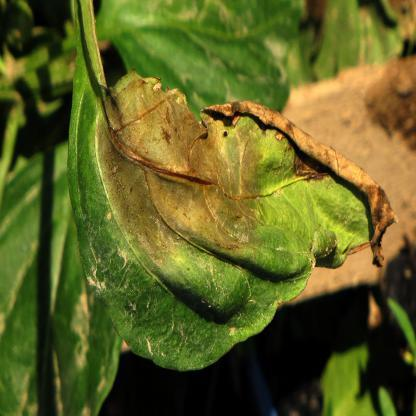Bell_pepper leaf: (65, 40, 398, 382)
